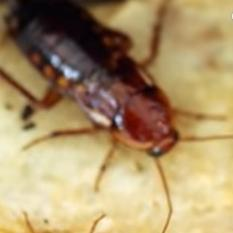cockroach: (3, 0, 186, 192)
